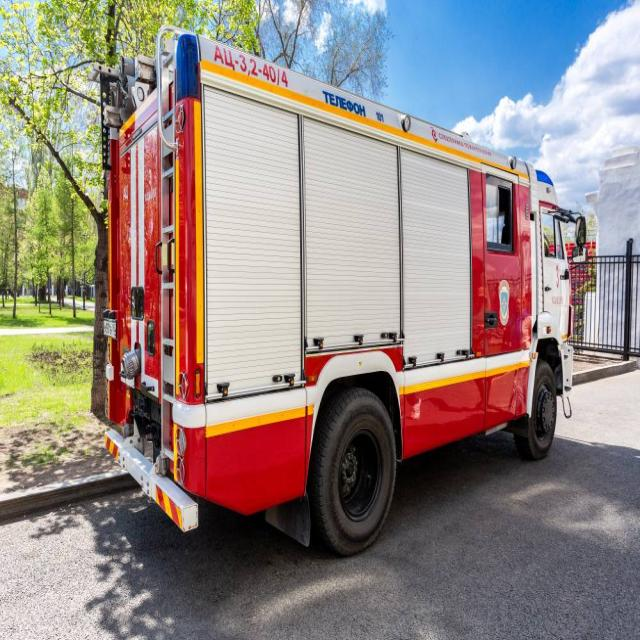emergency: (91, 27, 585, 554)
